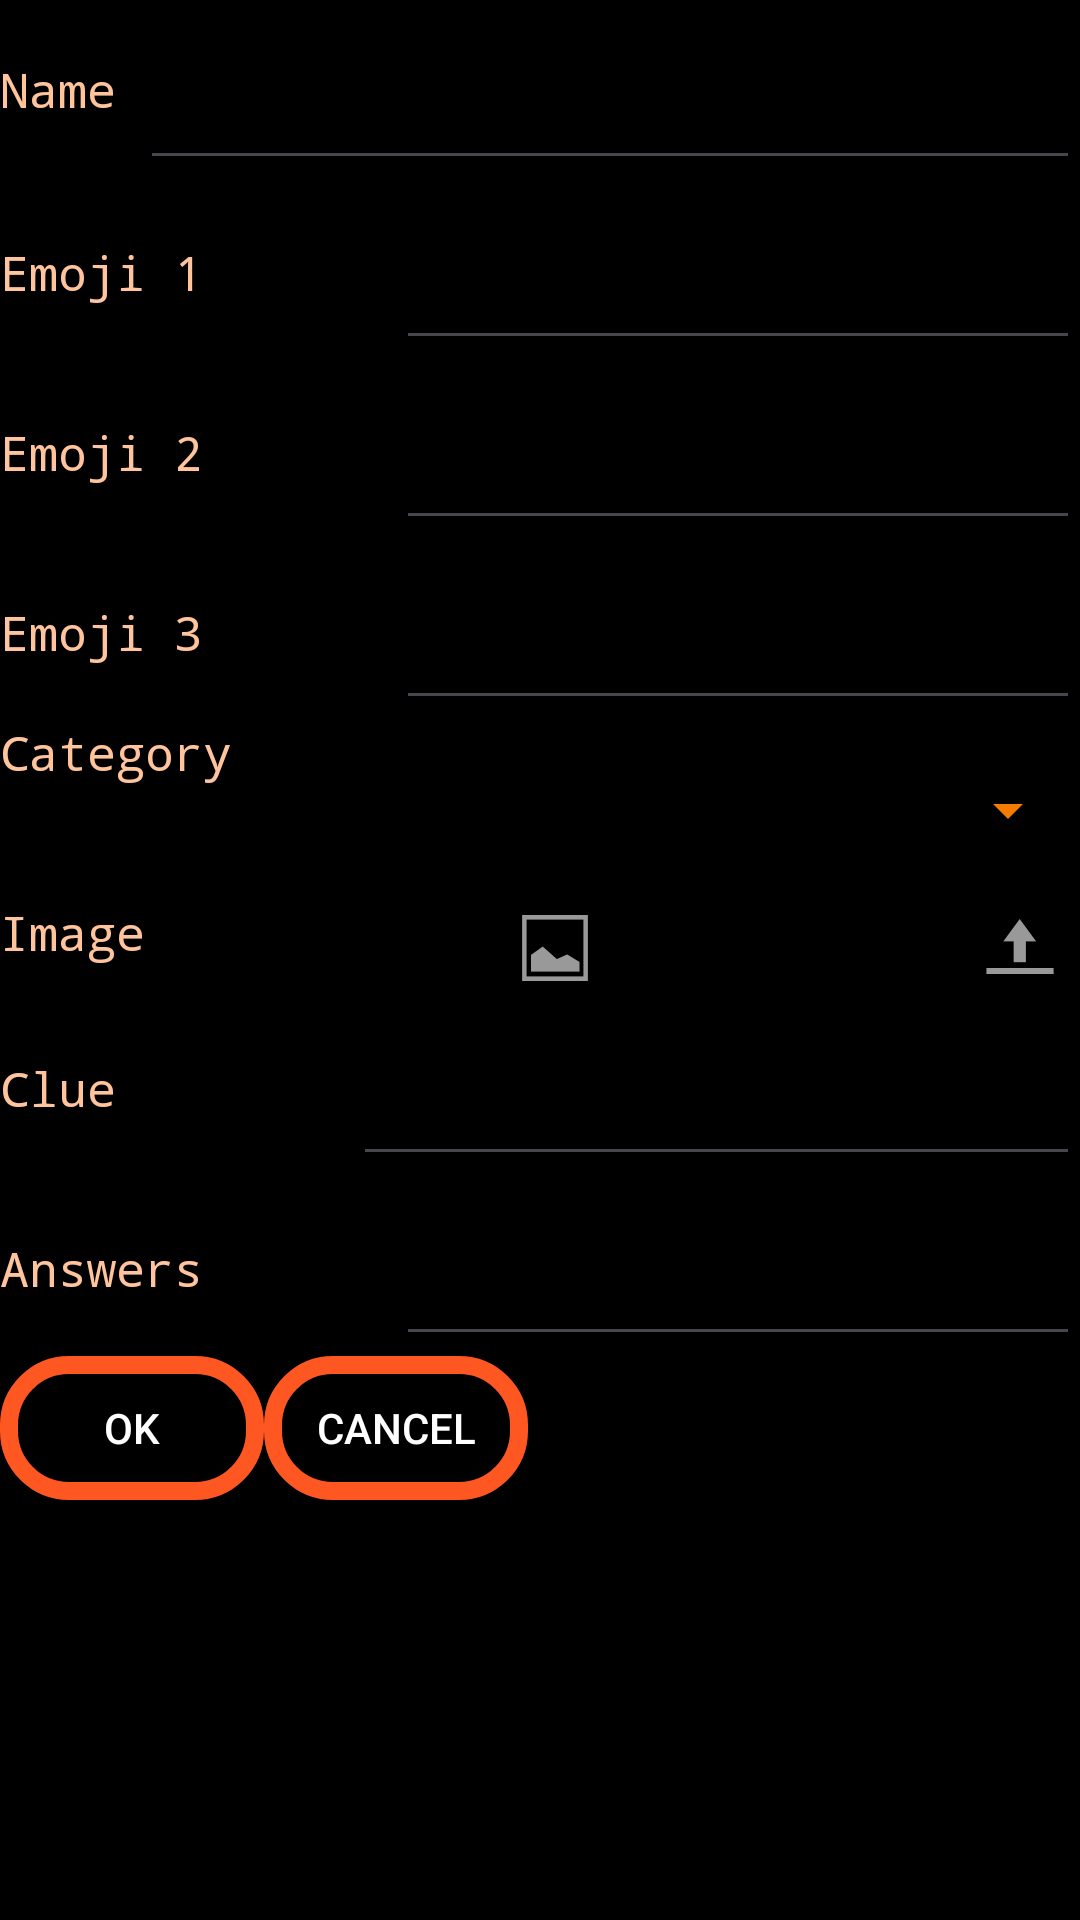

Named icons in this screenshot (1080px×1920px) and their bounding boxes, box(x1, y1, x2, y2):
gallery: box(522, 915, 588, 981)
upload: box(986, 919, 1054, 974)
